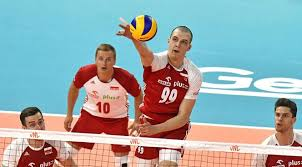ball: (129, 14, 158, 42)
